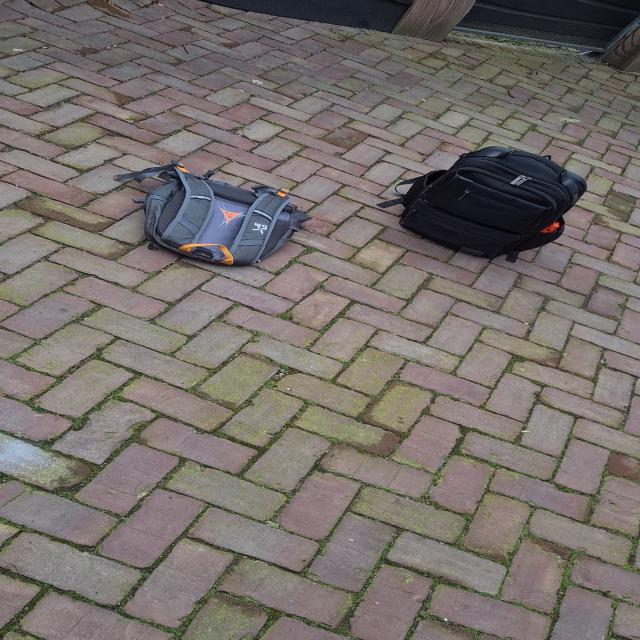backpack: (388, 141, 594, 260), (128, 161, 314, 269)
